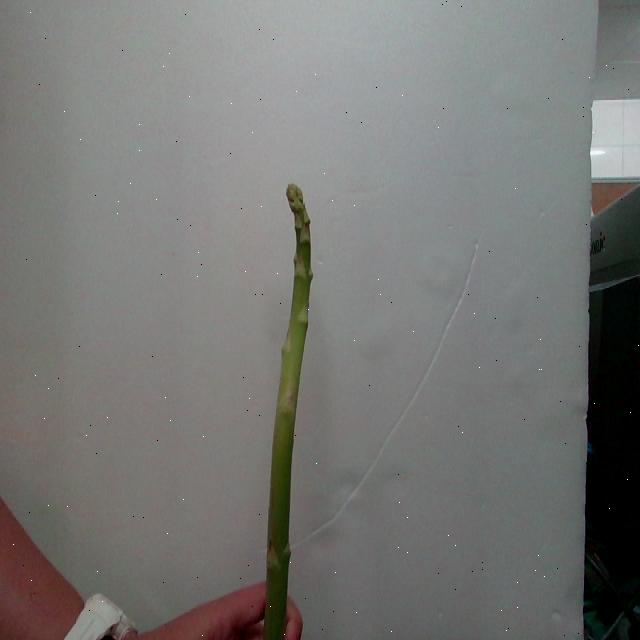aspargus: (264, 186, 317, 640)
